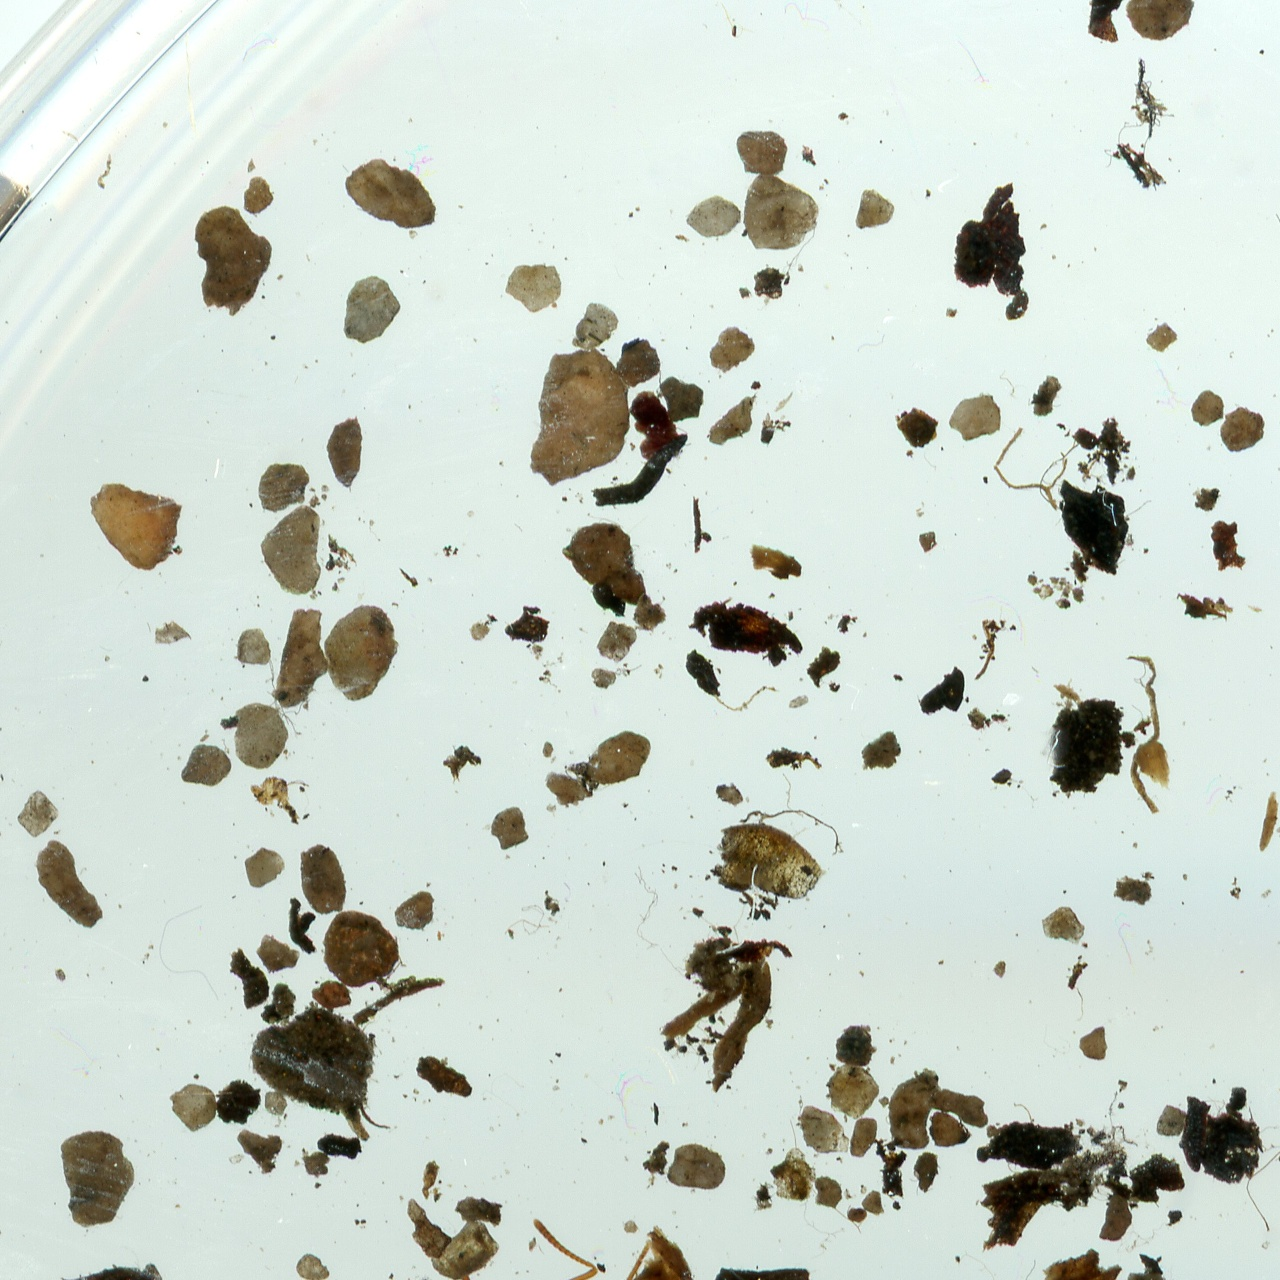arthropod: (436, 1166, 783, 1280)
